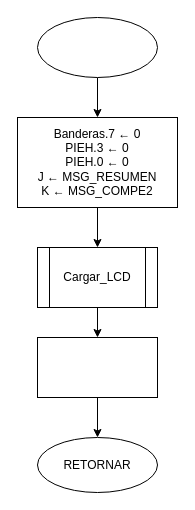
This 195x510 diagram has some shape labels left out. Here are the shapes that lost their labels. From the top down, the centre of each, then its label:
At (x=97, y=47): "MODO_RESUMEN".
At (x=97, y=367): "LEDS ← $08 BIN2 ← VUELTAS BIN1 ← VELPROM".
